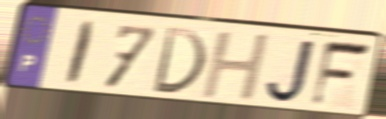7: (102, 22, 158, 92)
D: (149, 25, 209, 98)
F: (308, 39, 374, 110)
H: (199, 31, 273, 103)
I: (62, 19, 99, 88)
J: (263, 36, 319, 105)
